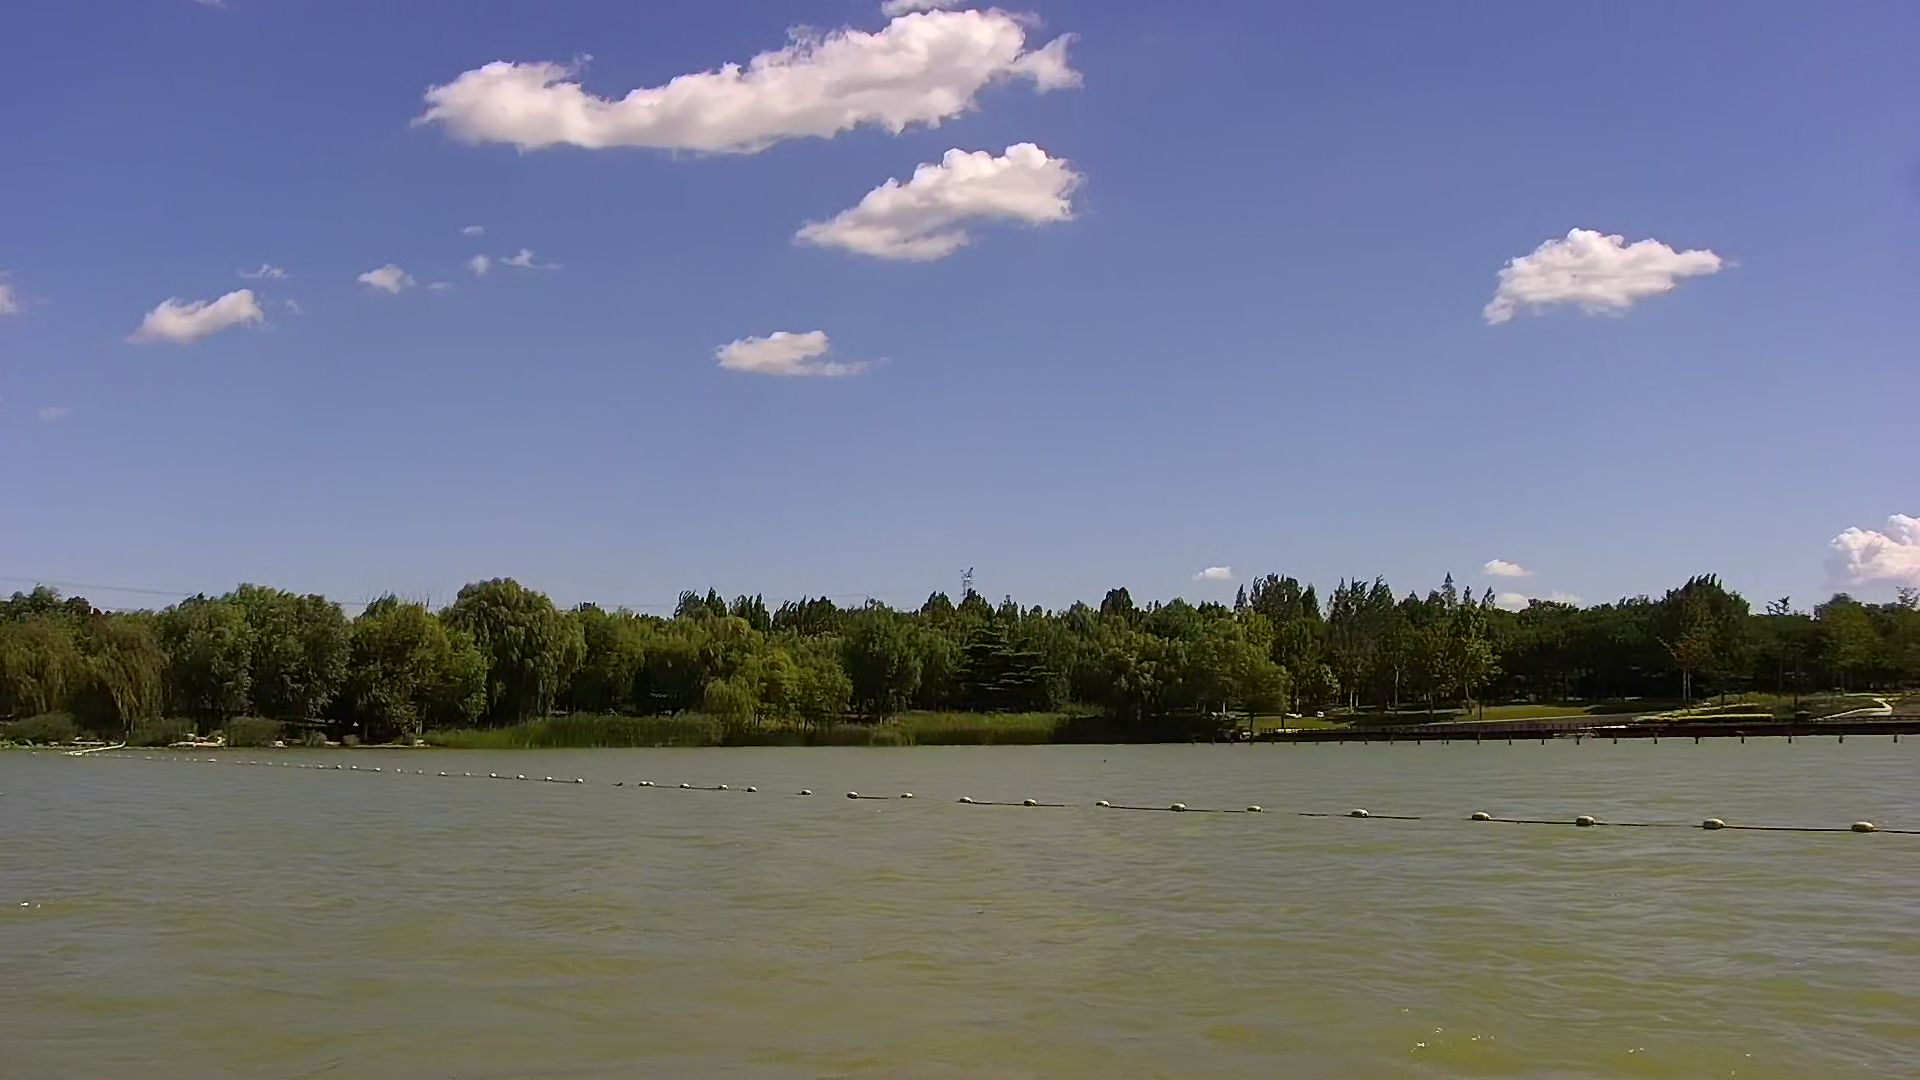ball: (1451, 798, 1516, 833), (1691, 796, 1733, 851), (1841, 806, 1888, 852), (1569, 796, 1613, 844), (1342, 790, 1381, 829)
